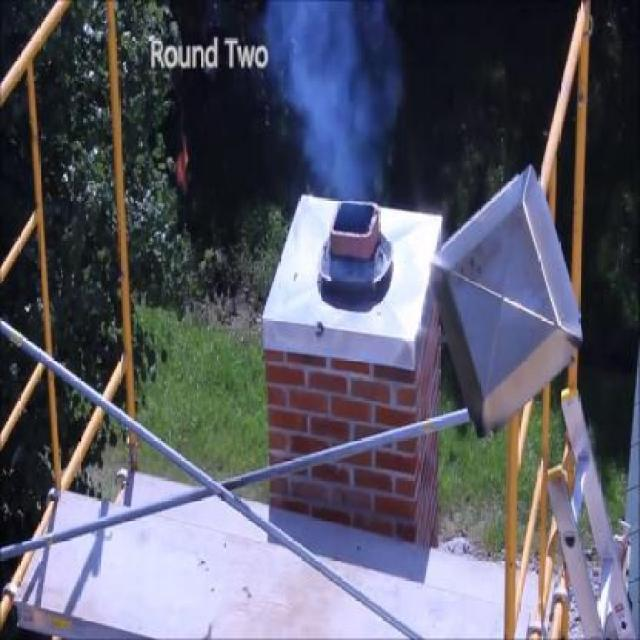smoke: (288, 2, 396, 190)
